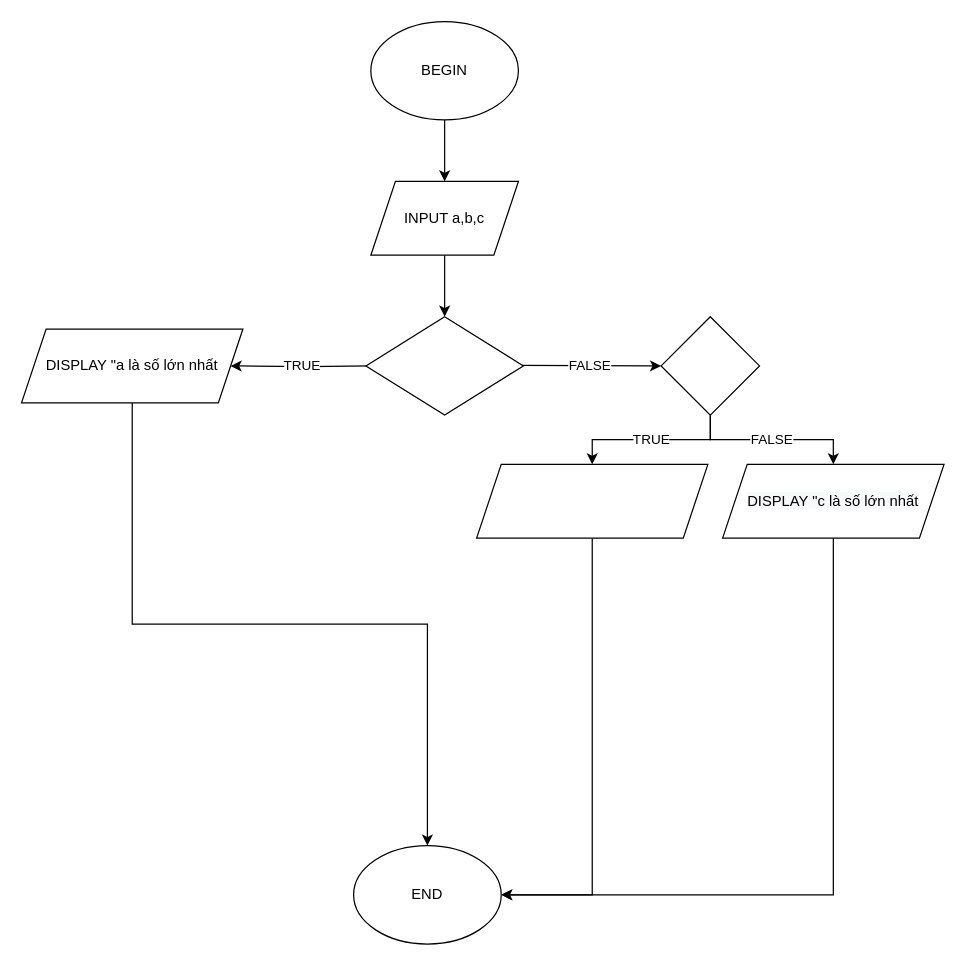
Some shapes in this 966 by 966 pixel diagram are drawn without their labels. Each missing label, with the box of its shape:
a>b AND a>c: (365, 315, 523, 415)
b>c: (660, 315, 760, 415)
DISPLAY "b là số lớn nhất: (475, 463, 708, 538)
